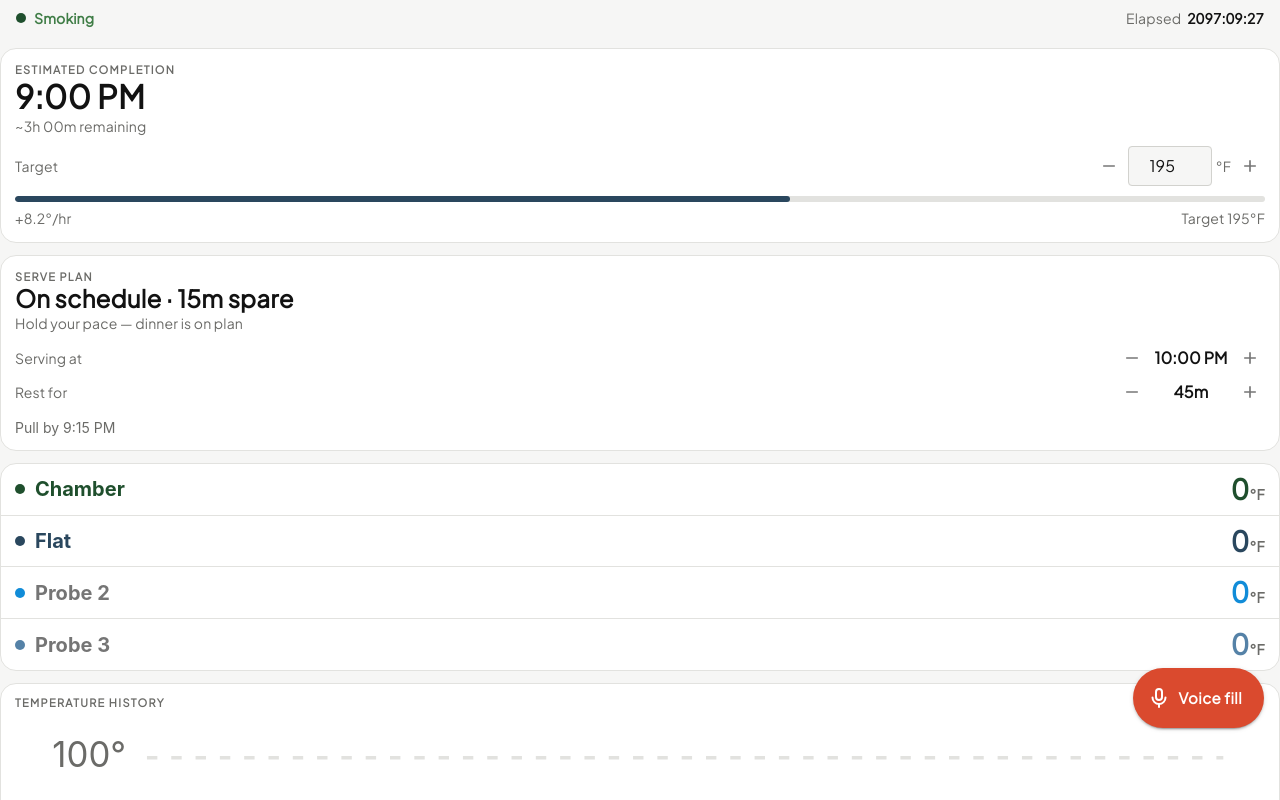
Test case: Voice Fill on the smoke screen › the review list writes a target, a serve time, a rest and the stamps as the cook reads them
Click the button "Voice fill" at (1198, 698), box x1=1133 y1=668 x2=1264 y2=728
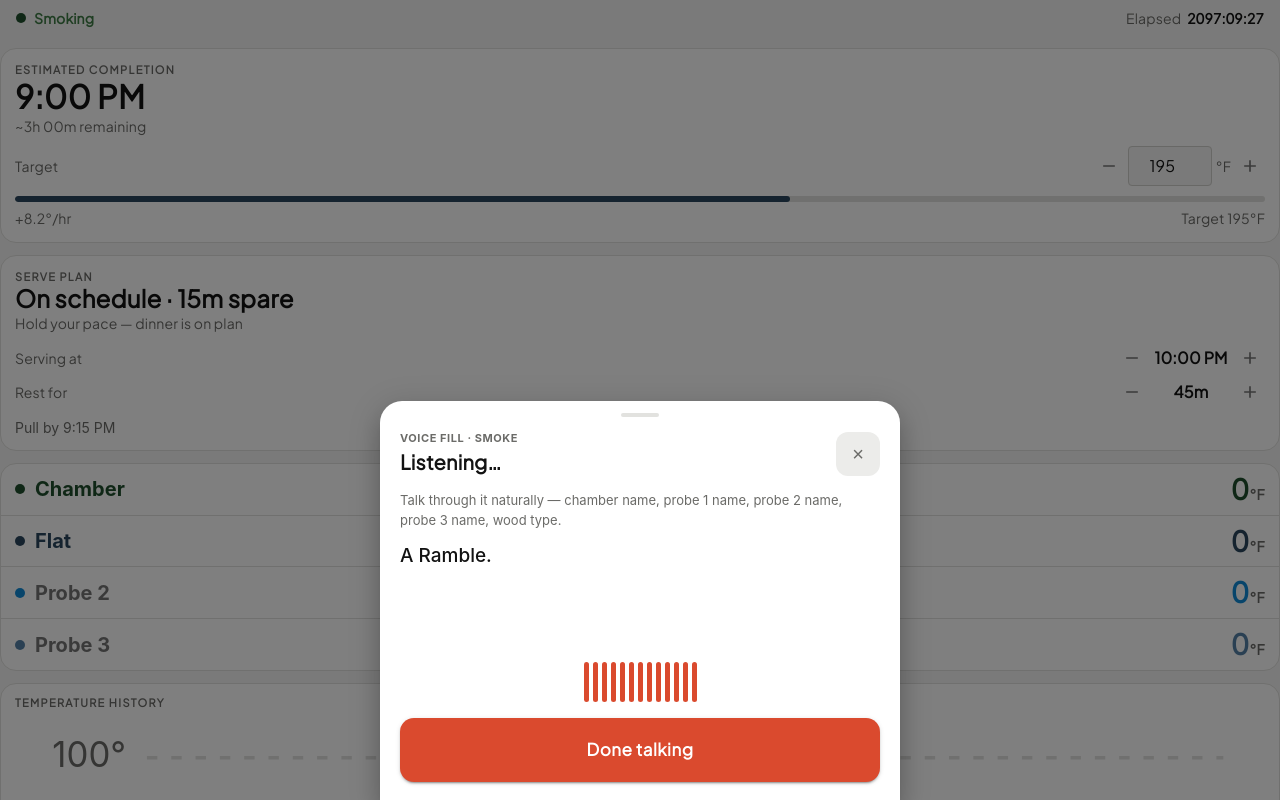
Click the button "Done talking" at (640, 750), box x1=400 y1=718 x2=880 y2=782
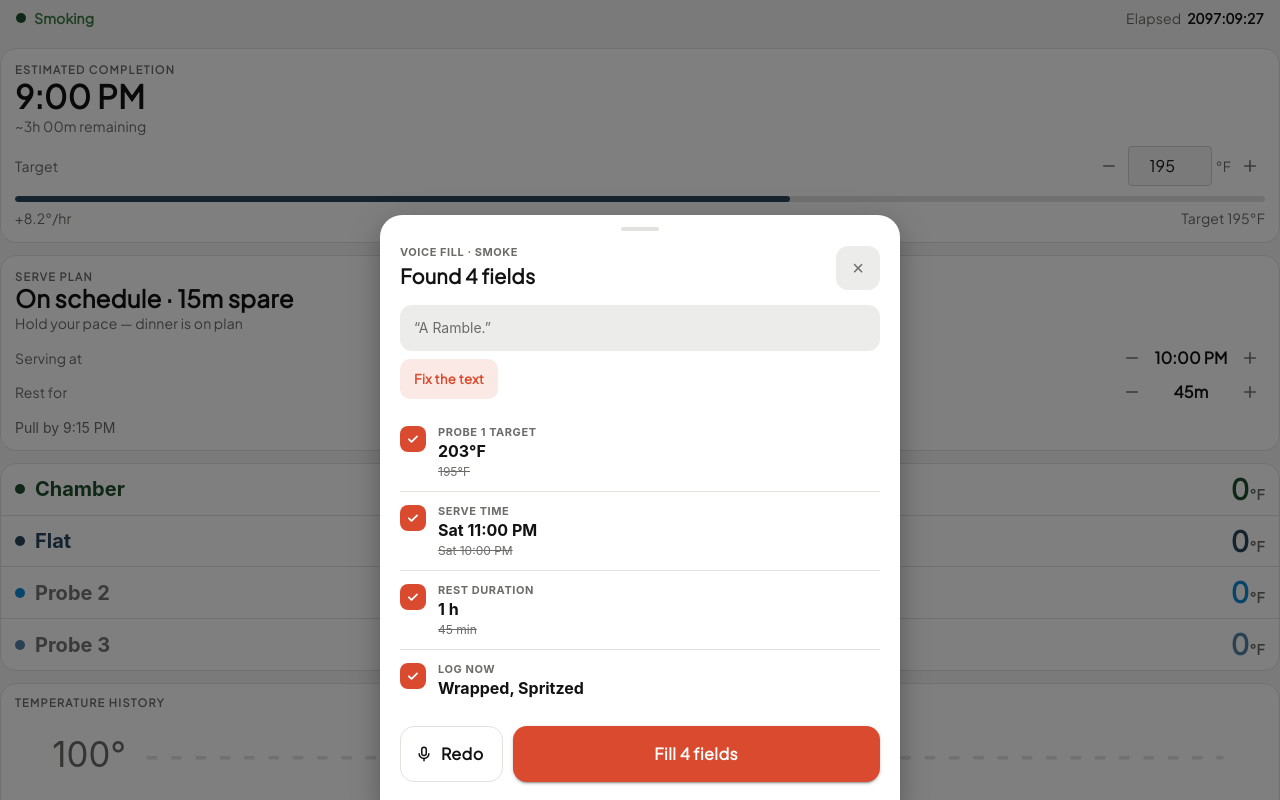
Now the button "Fill 4 fields" is shown, box x1=513 y1=726 x2=880 y2=782
